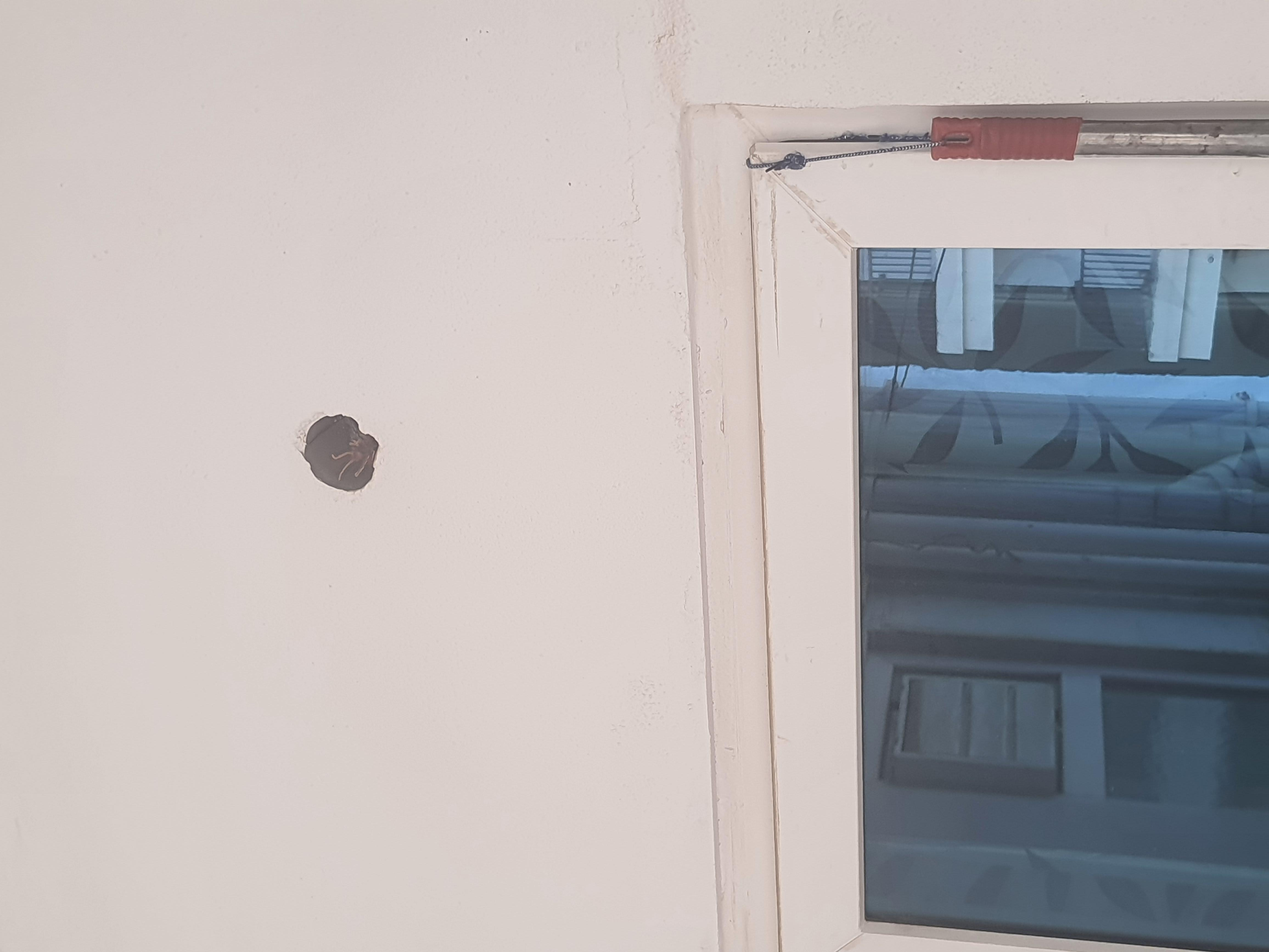cockroach: (613, 242, 688, 280)
